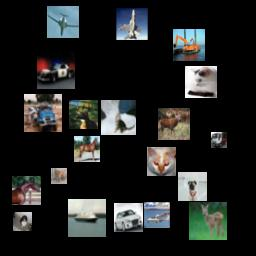airplane: (116, 8, 148, 40), (47, 6, 79, 38), (144, 202, 170, 228)
automobile: (37, 51, 75, 89), (114, 203, 143, 232)
cat: (101, 100, 136, 135), (185, 66, 217, 98), (147, 147, 176, 176)
deer: (189, 202, 227, 240), (158, 108, 190, 140), (69, 100, 98, 129)
dog: (178, 172, 207, 201), (13, 212, 32, 231), (51, 168, 67, 184)
ship: (68, 199, 106, 237), (173, 29, 205, 61)
truck: (24, 94, 62, 132), (211, 132, 227, 148)
